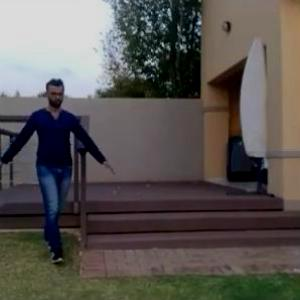land: (3, 78, 113, 264)
